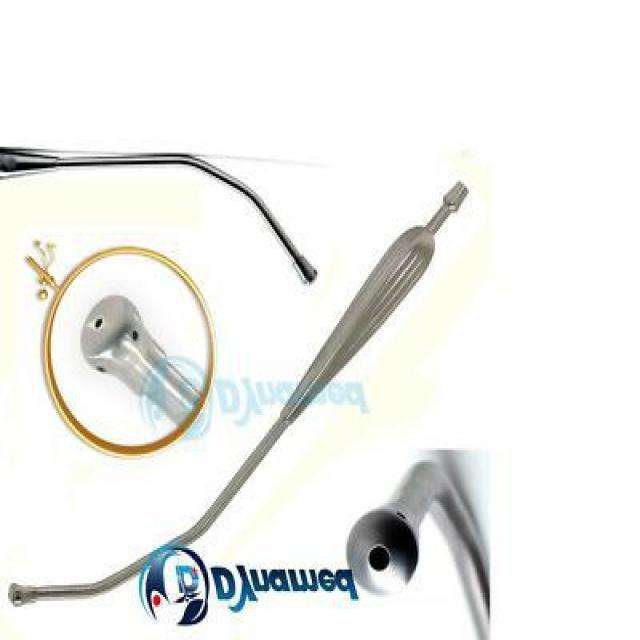Yankauer: (6, 180, 472, 613), (0, 143, 322, 291), (342, 452, 492, 638), (76, 289, 198, 426)
